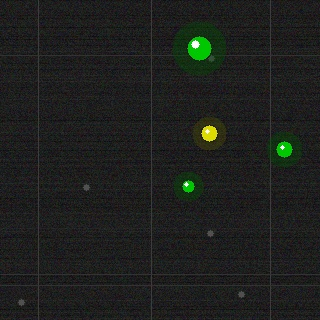green_normal: (185, 34, 213, 62), (274, 139, 294, 159), (180, 178, 196, 194)
yellow_warning: (199, 123, 219, 143)
